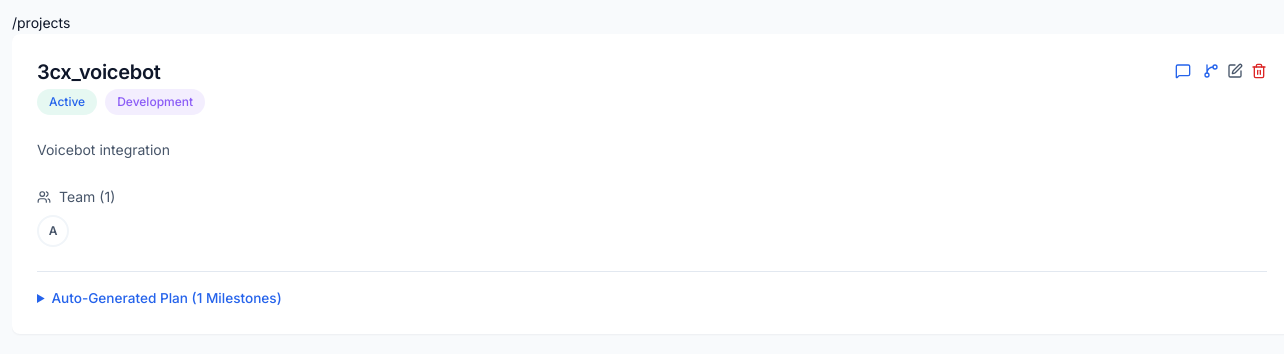
Test: ProjectsListView › supports Card View navigation while ignoring milestone <details> summary clicks
Click the heading "Auto-Generated Plan (1 Milestones)": [167, 298] box x1=51 y1=290 x2=282 y2=306
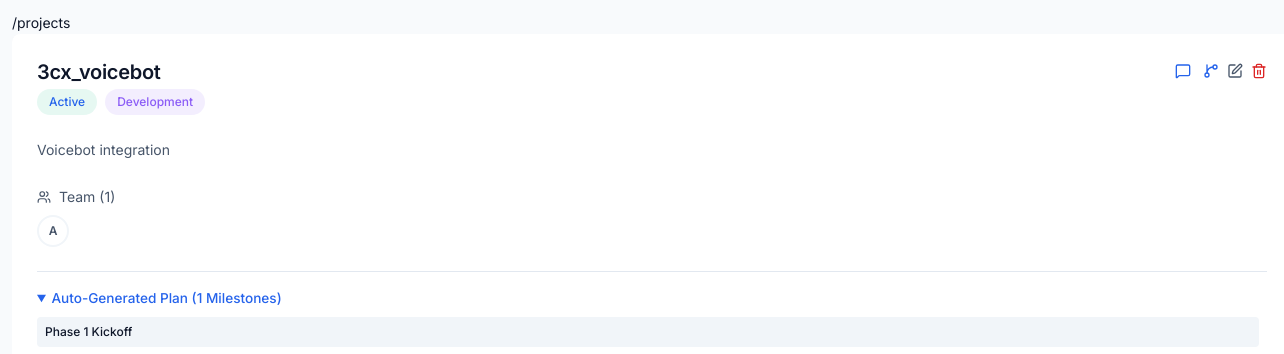
Expected: the text with test id "current-route" reads "/projects", x1=12 y1=14 x2=70 y2=31
Click the text "Voicebot integration": [104, 150] box x1=37 y1=141 x2=170 y2=158
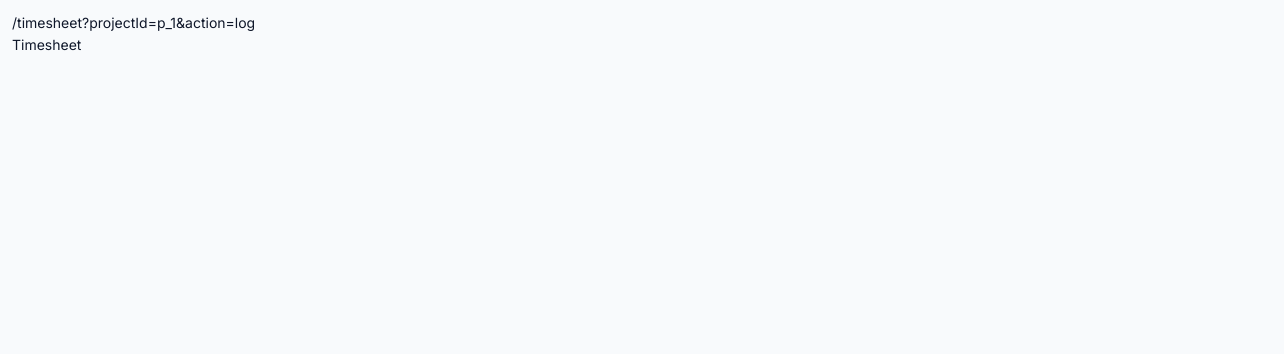
Result: the text with test id "current-route" reads "/timesheet?projectId=p_1&action=log" at x1=12 y1=14 x2=255 y2=31
